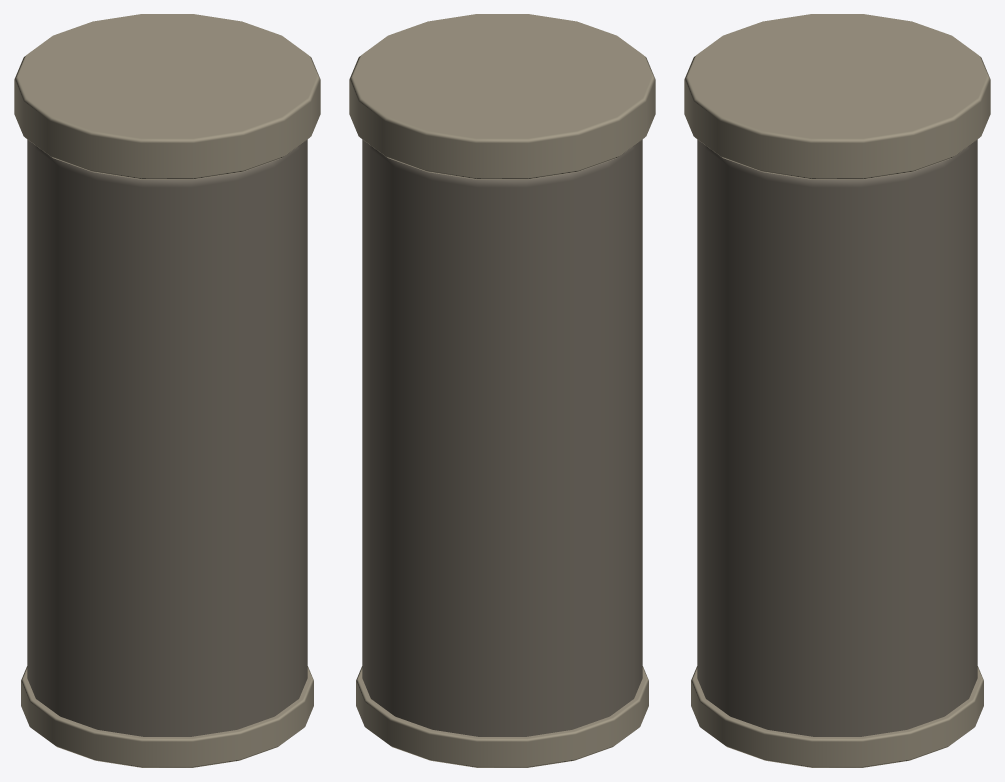
File: stone-halls-tower-corner.be4e0650.glb
The picture shows the model from 3 angles, left to right: view 1: azimuth 30°, elevation 25°; view 2: azimuth 150°, elevation 25°; view 3: azimuth 270°, elevation 25°; orthographic projection.
Visible parts, largest first — view 1: body; view 2: body; view 3: body.
Boxes of the visible parts, left/top/right/bottom form: body: left=14, top=14, right=320, bottom=767; body: left=349, top=14, right=655, bottom=767; body: left=684, top=14, right=990, bottom=767.
Bounding box in the file's own units: 0.9257 × 2.14 × 0.94.
